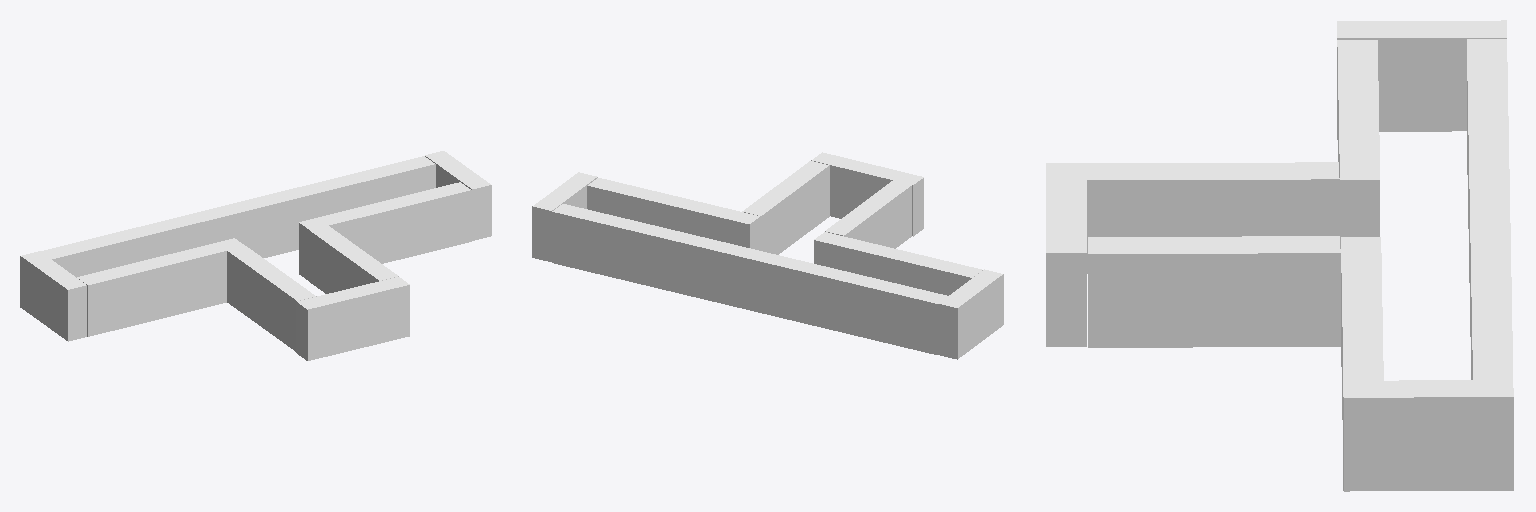
robot.urdf — tmaze.urdf:
<?xml version="0.0" ?>
<robot name="tmaze.urdf">
  <link concave="yes" name="baseLink">
    <inertial>
      <origin rpy="0 0 0" xyz="0 0 0"/>
       <mass value="1000"/>
       <inertia ixx="0" ixy="0" ixz="0" iyy="0" iyz="0" izz="0" />
    </inertial>
    <visual>
      <origin rpy="1.5707963 0 0" xyz="0 0 0"/>
      <geometry>
		    <mesh filename="tmaze.obj" scale="1 1 1"/>
      </geometry>
		  <material name="white">
          <color rgba="1 1 1 1"/>
      </material>
    </visual>
    <collision concave="yes">
      <origin rpy="1.5707963 0 0" xyz="0 0 0"/>
      <geometry>
          <mesh filename="tmaze.obj" scale="1 1 1"/>
      </geometry>
    </collision>
  </link>
</robot>

--- Facts derived from the render (not from the file) ---
Views: 3 orthographic renders of the robot side by side, from view 1: azimuth 30°, elevation 25°; view 2: azimuth 150°, elevation 25°; view 3: azimuth 270°, elevation 25°.
Model tmaze.urdf with 1 links and 0 joints (none), rooted at baseLink, posed every joint at zero.
Visible links, largest first — view 1: baseLink; view 2: baseLink; view 3: baseLink.
Boxes of the visible links, x1,y1,x2,y2 form: baseLink: (20,151,491,360); baseLink: (532,152,1003,359); baseLink: (1046,20,1513,491).
Bounding box of the posed robot: 24.49 × 12.82 × 2.87 m (x, y, z).
Meshes: 1 distinct files referenced, 1 mesh visuals loaded (1 OBJ).
